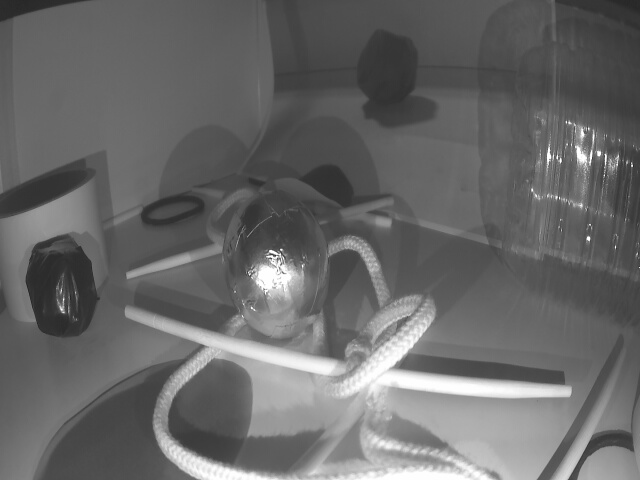Dead: (24, 239, 100, 339)
Live: (220, 185, 331, 339)
